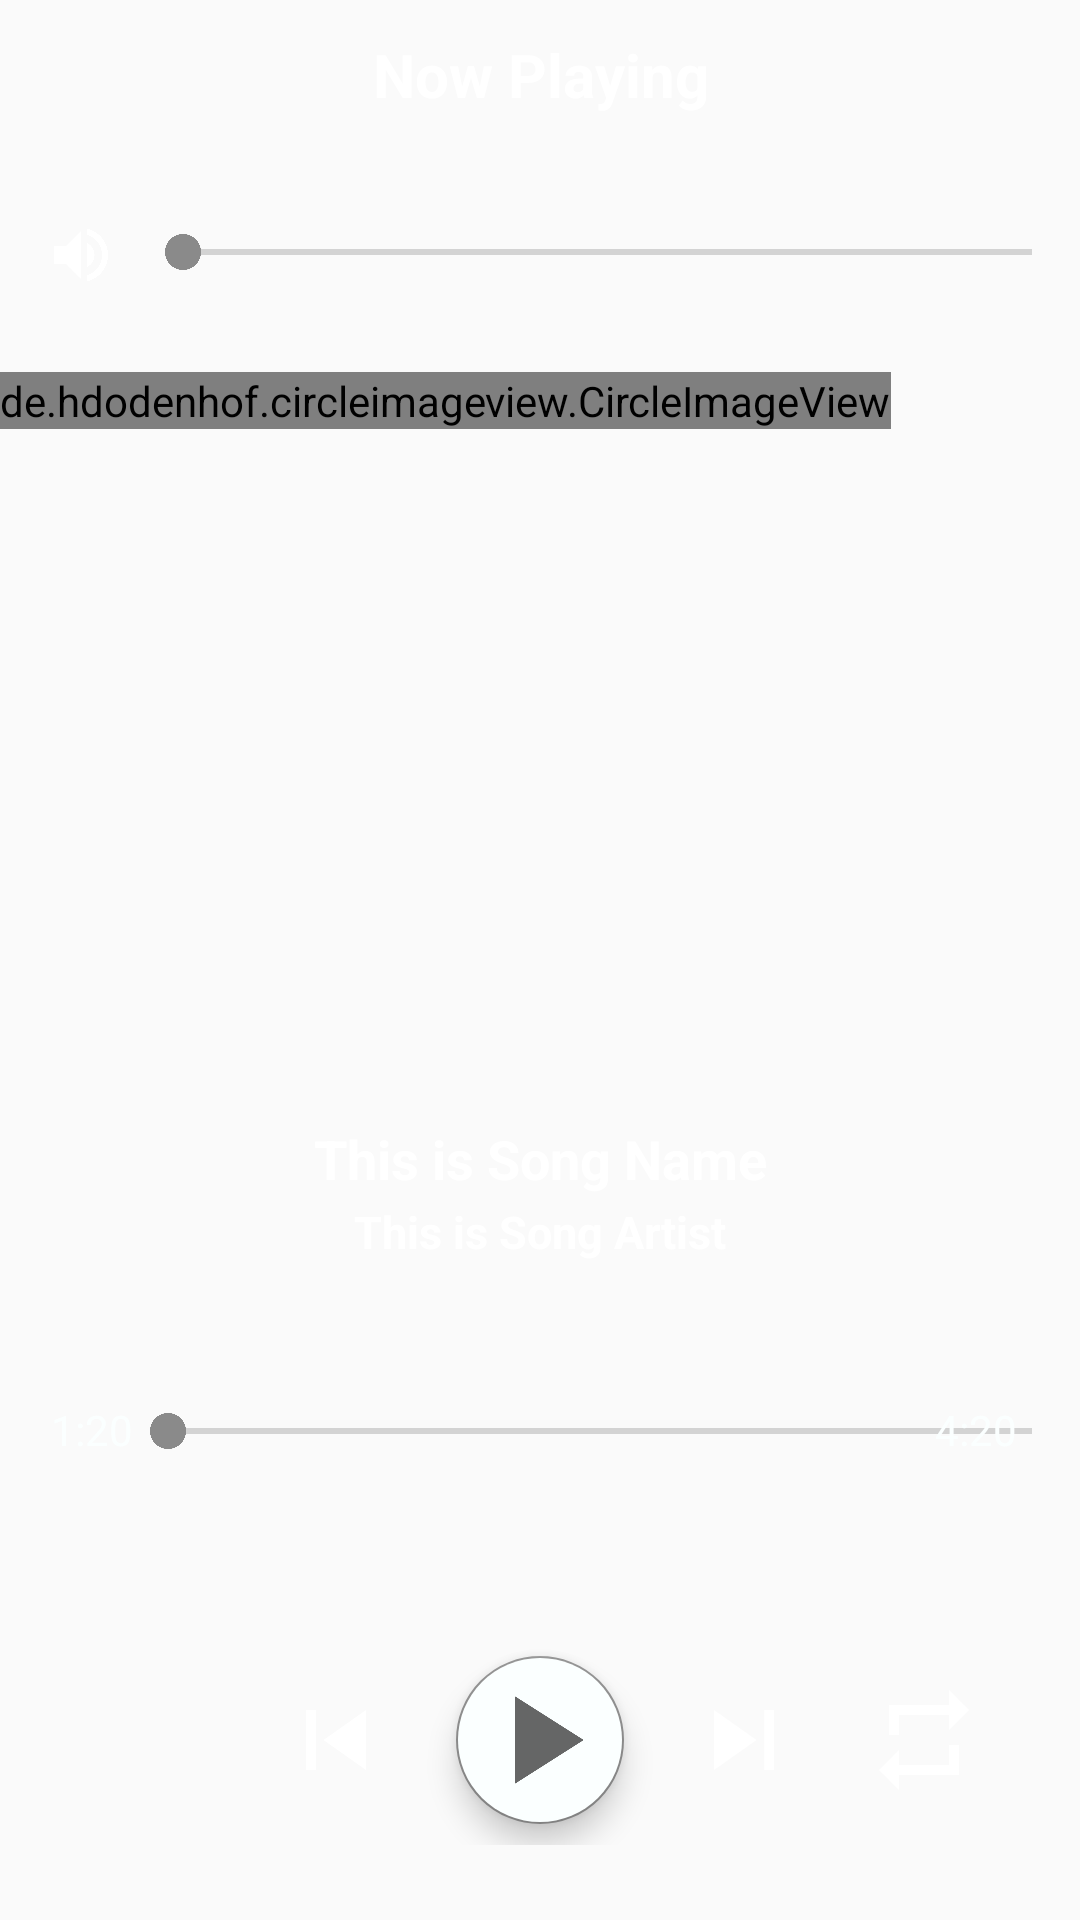

Point at icon controls on the screen. Image size 1080w x 1920h, points as (x=x, y=y).
play arrow: (x=549, y=1740)
